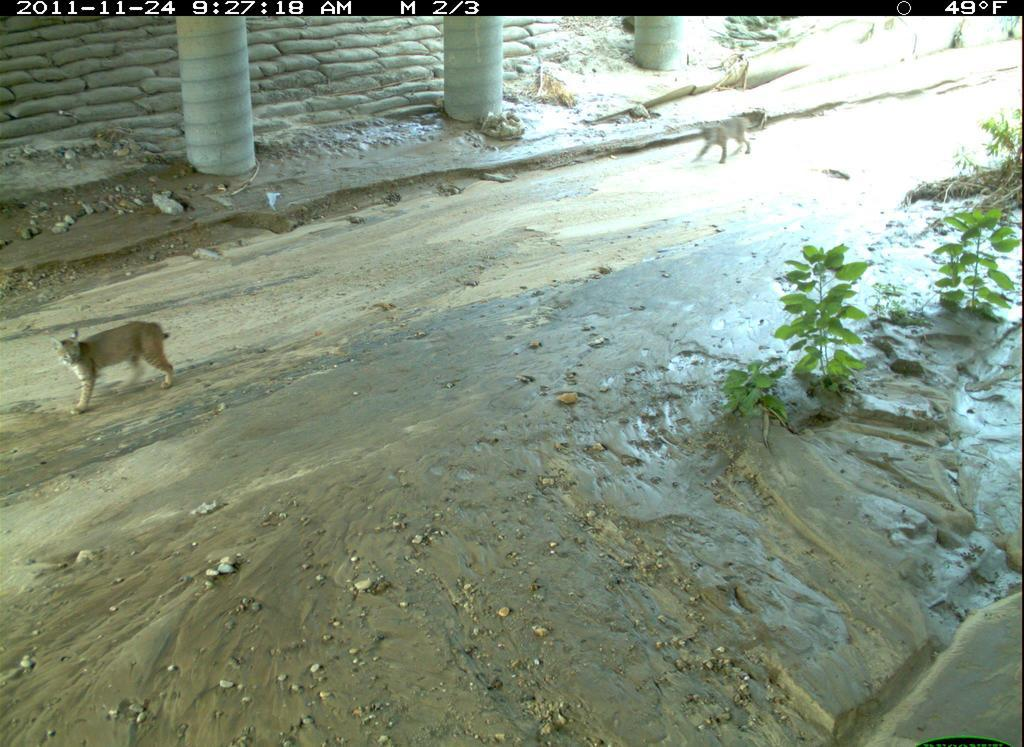bobcat: (53, 314, 184, 414), (689, 107, 776, 169)
